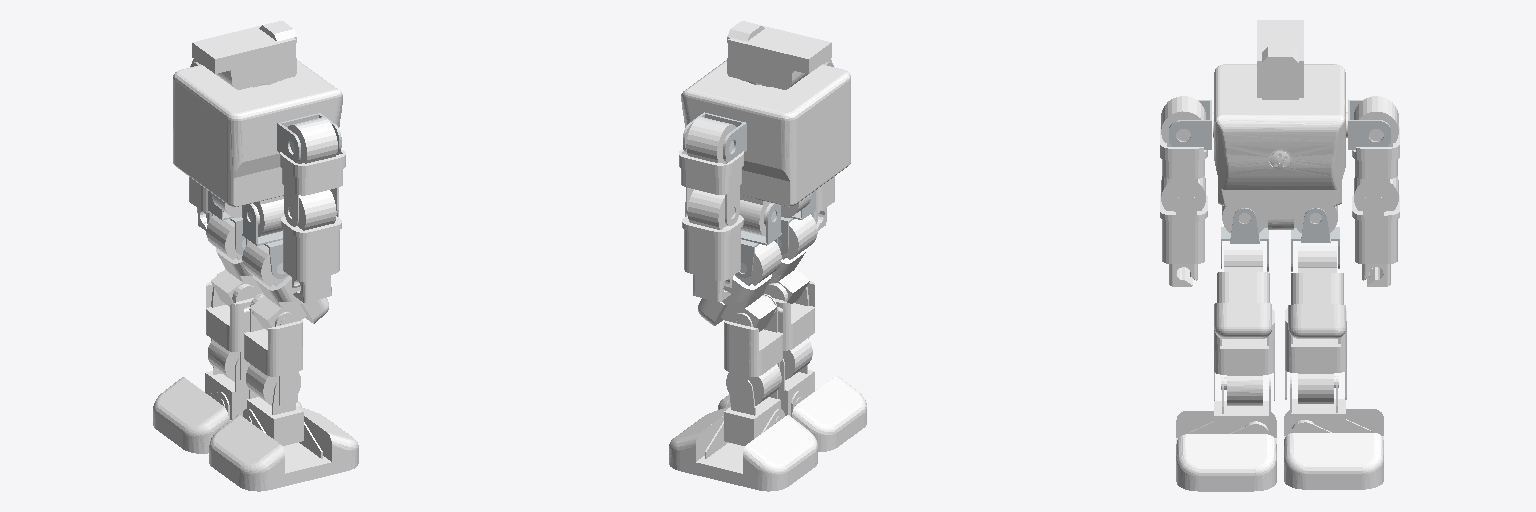
robot.urdf — yanshee:
<?xml version="1.0" ?>
<robot
  name="yanshee">
  <link name="world"/>
  <joint name="world_joint" type="fixed">
  <parent link="world"/>
  <child link="base_link"/>
  <origin rpy="0.0 0.0 0.0" xyz="0.0 0.0 0.28"/>
  </joint>
  <link
    name="base_link">
    <inertial>
      <origin
        xyz="-0.00671487104263047 -0.000225582019654342 -0.0079919194119481"
        rpy="0 0 0" />
      <mass
        value="1.0296612030539" />
      <inertia
        ixx="0.00180022359518362"
        ixy="1.1918387954471E-07"
        ixz="-5.28660375448492E-05"
        iyy="0.00176811056794777"
        iyz="1.82106435044606E-06"
        izz="0.00168298836267856" />
    </inertial>
    <visual>
      <origin
        xyz="0 0 0"
        rpy="0 0 0" />
      <geometry>
        <mesh
          filename="package://yanshee/meshes/base_link.STL" />
      </geometry>
      <material
        name="">
        <color
          rgba="1 1 1 1" />
      </material>
    </visual>
    <collision>
      <origin
        xyz="0 0 0"
        rpy="0 0 0" />
      <geometry>
        <mesh
          filename="package://yanshee/meshes/base_link.STL" />
      </geometry>
    </collision>
  </link>
  <link
    name="head_Link">
    <inertial>
      <origin
        xyz="-0.0107920940962409 7.80887188769389E-05 0.00228460765430599"
        rpy="0 0 0" />
      <mass
        value="0.0931744907520849" />
      <inertia
        ixx="2.05515448473376E-05"
        ixy="2.15071905057931E-08"
        ixz="2.68261333173558E-06"
        iyy="4.973230871684E-05"
        iyz="1.39655887082477E-09"
        izz="5.02600433533246E-05" />
    </inertial>
    <visual>
      <origin
        xyz="0 0 0"
        rpy="0 0 0" />
      <geometry>
        <mesh
          filename="package://yanshee/meshes/head_Link.STL" />
      </geometry>
      <material
        name="">
        <color
          rgba="1 1 1 1" />
      </material>
    </visual>
    <collision>
      <origin
        xyz="0 0 0"
        rpy="0 0 0" />
      <geometry>
        <mesh
          filename="package://yanshee/meshes/head_Link.STL" />
      </geometry>
    </collision>
  </link>
  <joint
    name="head_joint"
    type="revolute">
    <origin
      xyz="0 -0.00014945 0.06"
      rpy="1.1949E-16 -1.7338E-16 0" />
    <parent
      link="base_link" />
    <child
      link="head_Link" />
    <axis
      xyz="-0.00044678 -0.0035302 0.99999" />
    <limit
      lower="-1.58"
      upper="1.58"
      effort="1"
      velocity="10" />
  </joint>
  <link
    name="left_arm1_Link">
    <inertial>
      <origin
        xyz="5.14775840678994E-05 -9.5842284426495E-05 -0.0118303086559914"
        rpy="0 0 0" />
      <mass
        value="0.0136649272424537" />
      <inertia
        ixx="2.3634868988607E-06"
        ixy="-2.43828126653101E-12"
        ixz="2.57000691024144E-10"
        iyy="5.47215996034315E-06"
        iyz="1.05376000100878E-09"
        izz="4.66119879830543E-06" />
    </inertial>
    <visual>
      <origin
        xyz="0 0 0"
        rpy="0 0 0" />
      <geometry>
        <mesh
          filename="package://yanshee/meshes/left_arm1_Link.STL" />
      </geometry>
      <material
        name="">
        <color
          rgba="0.898039215686275 0.917647058823529 0.929411764705882 1" />
      </material>
    </visual>
    <collision>
      <origin
        xyz="0 0 0"
        rpy="0 0 0" />
      <geometry>
        <mesh
          filename="package://yanshee/meshes/left_arm1_Link.STL" />
      </geometry>
    </collision>
  </link>
  <joint
    name="left_arm1_joint"
    type="revolute">
    <origin
      xyz="0.0030003 0.076597 0.013315"
      rpy="-1.5708 0 1.108E-16" />
    <parent
      link="base_link" />
    <child
      link="left_arm1_Link" />
    <axis
      xyz="-5.8802E-05 0 -1" />
    <limit
      lower="-1.58"
      upper="1.58"
      effort="1"
      velocity="10" />
  </joint>
  <link
    name="left_arm2_Link">
    <inertial>
      <origin
        xyz="0.0186297064589019 0.000401816051501303 -0.00042578700677829"
        rpy="0 0 0" />
      <mass
        value="0.0156927248264831" />
      <inertia
        ixx="5.6753981697414E-06"
        ixy="4.73427409516267E-08"
        ixz="-1.27933784616934E-07"
        iyy="1.01425535666065E-05"
        iyz="-5.19641927957789E-09"
        izz="8.82186853628373E-06" />
    </inertial>
    <visual>
      <origin
        xyz="0 0 0"
        rpy="0 0 0" />
      <geometry>
        <mesh
          filename="package://yanshee/meshes/left_arm2_Link.STL" />
      </geometry>
      <material
        name="">
        <color
          rgba="1 1 1 1" />
      </material>
    </visual>
    <collision>
      <origin
        xyz="0 0 0"
        rpy="0 0 0" />
      <geometry>
        <mesh
          filename="package://yanshee/meshes/left_arm2_Link.STL" />
      </geometry>
    </collision>
  </link>
  <joint
    name="left_arm2_joint"
    type="revolute">
    <origin
      xyz="0 0 0"
      rpy="1.5708 0 1.5708" />
    <parent
      link="left_arm1_Link" />
    <child
      link="left_arm2_Link" />
    <axis
      xyz="0 0 1" />
    <limit
      lower="-1.58"
      upper="1.58"
      effort="1"
      velocity="10" />
  </joint>
  <link
    name="left_arm3_Link">
    <inertial>
      <origin
        xyz="0.026570274501621 9.51803753585501E-05 -0.00376690909324129"
        rpy="0 0 0" />
      <mass
        value="0.0983861935013279" />
      <inertia
        ixx="1.95628201387486E-05"
        ixy="-4.69255772866858E-07"
        ixz="4.3937955466687E-07"
        iyy="6.21429342121587E-05"
        iyz="1.77682159194068E-08"
        izz="6.01446819208126E-05" />
    </inertial>
    <visual>
      <origin
        xyz="0 0 0"
        rpy="0 0 0" />
      <geometry>
        <mesh
          filename="package://yanshee/meshes/left_arm3_Link.STL" />
      </geometry>
      <material
        name="">
        <color
          rgba="1 1 1 1" />
      </material>
    </visual>
    <collision>
      <origin
        xyz="0 0 0"
        rpy="0 0 0" />
      <geometry>
        <mesh
          filename="package://yanshee/meshes/left_arm3_Link.STL" />
      </geometry>
    </collision>
  </link>
  <joint
    name="left_arm3_joint"
    type="revolute">
    <origin
      xyz="0.059245 0 0.00152"
      rpy="-1.8995E-11 -0.02618 0" />
    <parent
      link="left_arm2_Link" />
    <child
      link="left_arm3_Link" />
    <axis
      xyz="0.026177 0 0.99966" />
    <limit
      lower="-1.58"
      upper="1.58"
      effort="1"
      velocity="10" />
  </joint>
  <link
    name="right_arm1_Link">
    <inertial>
      <origin
        xyz="-5.1477587142388E-05 -9.58421639294105E-05 -0.0118303086560013"
        rpy="0 0 0" />
      <mass
        value="0.0136649272424444" />
      <inertia
        ixx="2.36348689889869E-06"
        ixy="2.43827204007905E-12"
        ixz="-2.57000159418442E-10"
        iyy="5.4721599603395E-06"
        iyz="1.05373950042753E-09"
        izz="4.66119879834388E-06" />
    </inertial>
    <visual>
      <origin
        xyz="0 0 0"
        rpy="0 0 0" />
      <geometry>
        <mesh
          filename="package://yanshee/meshes/right_arm1_Link.STL" />
      </geometry>
      <material
        name="">
        <color
          rgba="0.898039215686275 0.917647058823529 0.929411764705882 1" />
      </material>
    </visual>
    <collision>
      <origin
        xyz="0 0 0"
        rpy="0 0 0" />
      <geometry>
        <mesh
          filename="package://yanshee/meshes/right_arm1_Link.STL" />
      </geometry>
    </collision>
  </link>
  <joint
    name="right_arm1_joint"
    type="revolute">
    <origin
      xyz="0.0030003 -0.077273 0.013316"
      rpy="1.5708 0 -3.9868E-19" />
    <parent
      link="base_link" />
    <child
      link="right_arm1_Link" />
    <axis
      xyz="-5.9268E-05 0 1" />
    <limit
      lower="-1.58"
      upper="1.58"
      effort="1"
      velocity="10" />
  </joint>
  <link
    name="right_arm2_Link">
    <inertial>
      <origin
        xyz="0.0186297095059434 0.000401688645375403 0.000425917718280107"
        rpy="0 0 0" />
      <mass
        value="0.0156926956999585" />
      <inertia
        ixx="5.67540894238038E-06"
        ixy="4.73622619858288E-08"
        ixz="1.27913953578669E-07"
        iyy="1.01425587967183E-05"
        iyz="5.14556186469705E-09"
        izz="8.82187996580289E-06" />
    </inertial>
    <visual>
      <origin
        xyz="0 0 0"
        rpy="0 0 0" />
      <geometry>
        <mesh
          filename="package://yanshee/meshes/right_arm2_Link.STL" />
      </geometry>
      <material
        name="">
        <color
          rgba="1 1 1 1" />
      </material>
    </visual>
    <collision>
      <origin
        xyz="0 0 0"
        rpy="0 0 0" />
      <geometry>
        <mesh
          filename="package://yanshee/meshes/right_arm2_Link.STL" />
      </geometry>
    </collision>
  </link>
  <joint
    name="right_arm2_joint"
    type="revolute">
    <origin
      xyz="-9.961E-05 0 0"
      rpy="1.5708 0 -1.5708" />
    <parent
      link="right_arm1_Link" />
    <child
      link="right_arm2_Link" />
    <axis
      xyz="0 0 1" />
    <limit
      lower="-1.58"
      upper="1.58"
      effort="1"
      velocity="10" />
  </joint>
  <link
    name="right_arm3_Link">
    <inertial>
      <origin
        xyz="0.026659702183302 9.51783873687356E-05 0.00307009292755899"
        rpy="0 0 0" />
      <mass
        value="0.0983852869739852" />
      <inertia
        ixx="1.95671253596984E-05"
        ixy="-4.69557130988975E-07"
        ixz="6.23165184228249E-07"
        iyy="6.2142544545993E-05"
        iyz="-5.47676812377141E-09"
        izz="6.01395038406066E-05" />
    </inertial>
    <visual>
      <origin
        xyz="0 0 0"
        rpy="0 0 0" />
      <geometry>
        <mesh
          filename="package://yanshee/meshes/right_arm3_Link.STL" />
      </geometry>
      <material
        name="">
        <color
          rgba="1 1 1 1" />
      </material>
    </visual>
    <collision>
      <origin
        xyz="0 0 0"
        rpy="0 0 0" />
      <geometry>
        <mesh
          filename="package://yanshee/meshes/right_arm3_Link.STL" />
      </geometry>
    </collision>
  </link>
  <joint
    name="right_arm3_joint"
    type="revolute">
    <origin
      xyz="0.059245 0 -0.00152"
      rpy="1.9539E-11 4.4108E-12 0" />
    <parent
      link="right_arm2_Link" />
    <child
      link="right_arm3_Link" />
    <axis
      xyz="0 0 -1" />
    <limit
      lower="-1.58"
      upper="1.58"
      effort="1"
      velocity="10" />
  </joint>
  <link
    name="left_leg1_Link">
    <inertial>
      <origin
        xyz="0.0218793806245584 0.000461528315038338 0.000437328945235152"
        rpy="0 0 0" />
      <mass
        value="0.0156559636608665" />
      <inertia
        ixx="4.47155922341706E-06"
        ixy="-1.77585864343584E-07"
        ixz="1.75175041214978E-07"
        iyy="4.61839887541924E-06"
        iyz="3.15996181844891E-09"
        izz="4.6159043452499E-06" />
    </inertial>
    <visual>
      <origin
        xyz="0 0 0"
        rpy="0 0 0" />
      <geometry>
        <mesh
          filename="package://yanshee/meshes/left_leg1_Link.STL" />
      </geometry>
      <material
        name="">
        <color
          rgba="0.898039215686275 0.917647058823529 0.929411764705882 1" />
      </material>
    </visual>
    <collision>
      <origin
        xyz="0 0 0"
        rpy="0 0 0" />
      <geometry>
        <mesh
          filename="package://yanshee/meshes/left_leg1_Link.STL" />
      </geometry>
    </collision>
  </link>
  <joint
    name="left_leg1_joint"
    type="fixed">
    <origin
      xyz="-0.0091403 0.02816 -0.065928"
      rpy="-1.5708 1.5708 1.5708" />
    <parent
      link="base_link" />
    <child
      link="left_leg1_Link" />
    <axis
      xyz="0 0 -1" />
    <limit
      lower="-1.58"
      upper="1.58"
      effort="0"
      velocity="0" />
  </joint>
  <link
    name="left_leg2_Link">
    <inertial>
      <origin
        xyz="0.0255864571187106 -0.0108509305854525 0.00101864247275891"
        rpy="0 0 0" />
      <mass
        value="0.107715150230029" />
      <inertia
        ixx="3.38164419926127E-05"
        ixy="1.23153518587689E-05"
        ixz="4.6194211271192E-07"
        iyy="5.78640129364067E-05"
        iyz="2.74795544044712E-07"
        izz="6.64839927510415E-05" />
    </inertial>
    <visual>
      <origin
        xyz="0 0 0"
        rpy="0 0 0" />
      <geometry>
        <mesh
          filename="package://yanshee/meshes/left_leg2_Link.STL" />
      </geometry>
      <material
        name="">
        <color
          rgba="1 1 1 1" />
      </material>
    </visual>
    <collision>
      <origin
        xyz="0 0 0"
        rpy="0 0 0" />
      <geometry>
        <mesh
          filename="package://yanshee/meshes/left_leg2_Link.STL" />
      </geometry>
    </collision>
  </link>
  <joint
    name="left_leg2_joint"
    type="fixed">
    <origin
      xyz="0.0438 0 0"
      rpy="1.5708 0 -6.8049E-07" />
    <parent
      link="left_leg1_Link" />
    <child
      link="left_leg2_Link" />
    <axis
      xyz="0 0 -1" />
    <limit
      lower="-1.58"
      upper="1.58"
      effort="0"
      velocity="0" />
  </joint>
  <link
    name="left_leg3_Link">
    <inertial>
      <origin
        xyz="0.0407946525783551 2.00999895415663E-05 0.000215900493275946"
        rpy="0 0 0" />
      <mass
        value="0.0769705912620037" />
      <inertia
        ixx="2.01778905647826E-05"
        ixy="3.24770412009536E-09"
        ixz="-5.11455121015069E-08"
        iyy="3.91841731233319E-05"
        iyz="1.50114743011987E-09"
        izz="3.21700138167598E-05" />
    </inertial>
    <visual>
      <origin
        xyz="0 0 0"
        rpy="0 0 0" />
      <geometry>
        <mesh
          filename="package://yanshee/meshes/left_leg3_Link.STL" />
      </geometry>
      <material
        name="">
        <color
          rgba="1 1 1 1" />
      </material>
    </visual>
    <collision>
      <origin
        xyz="0 0 0"
        rpy="0 0 0" />
      <geometry>
        <mesh
          filename="package://yanshee/meshes/left_leg3_Link.STL" />
      </geometry>
    </collision>
  </link>
  <joint
    name="left_leg3_joint"
    type="fixed">
    <origin
      xyz="0.049876 0 1.4223E-05"
      rpy="-1.6653E-16 -1.0793E-06 0" />
    <parent
      link="left_leg2_Link" />
    <child
      link="left_leg3_Link" />
    <axis
      xyz="0.13975 -0.99019 0" />
    <limit
      lower="-1.58"
      upper="1.58"
      effort="0"
      velocity="0" />
  </joint>
  <link
    name="left_leg4_Link">
    <inertial>
      <origin
        xyz="0.0339764234951882 0.00157592235510815 0.000681683144300838"
        rpy="0 0 0" />
      <mass
        value="0.0377470338040459" />
      <inertia
        ixx="9.3959305666122E-06"
        ixy="-1.9874023770476E-07"
        ixz="-6.9333960599869E-08"
        iyy="6.29756290524162E-06"
        iyz="2.15786874188445E-07"
        izz="9.74973254351289E-06" />
    </inertial>
    <visual>
      <origin
        xyz="0 0 0"
        rpy="0 0 0" />
      <geometry>
        <mesh
          filename="package://yanshee/meshes/left_leg4_Link.STL" />
      </geometry>
      <material
        name="">
        <color
          rgba="1 1 1 1" />
      </material>
    </visual>
    <collision>
      <origin
        xyz="0 0 0"
        rpy="0 0 0" />
      <geometry>
        <mesh
          filename="package://yanshee/meshes/left_leg4_Link.STL" />
      </geometry>
    </collision>
  </link>
  <joint
    name="left_leg4_joint"
    type="fixed">
    <origin
      xyz="0.059245 1.5251E-05 0"
      rpy="1.5714 -0.00046343 0" />
    <parent
      link="left_leg3_Link" />
    <child
      link="left_leg4_Link" />
    <axis
      xyz="0 -1 0" />
    <limit
      lower="-1.58"
      upper="1.58"
      effort="0"
      velocity="0" />
  </joint>
  <link
    name="left_leg5_Link">
    <inertial>
      <origin
        xyz="0.0196730138540844 -0.0233092637107096 -0.00142039915584111"
        rpy="0 0 0" />
      <mass
        value="0.180693448780151" />
      <inertia
        ixx="0.000286904706763416"
        ixy="4.85308988509185E-07"
        ixz="3.08612201699753E-08"
        iyy="0.000209961688550046"
        iyz="2.86937724081844E-10"
        izz="0.000102539066831567" />
    </inertial>
    <visual>
      <origin
        xyz="0 0 0"
        rpy="0 0 0" />
      <geometry>
        <mesh
          filename="package://yanshee/meshes/left_leg5_Link.STL" />
      </geometry>
      <material
        name="">
        <color
          rgba="1 1 1 1" />
      </material>
    </visual>
    <collision>
      <origin
        xyz="0 0 0"
        rpy="0 0 0" />
      <geometry>
        <mesh
          filename="package://yanshee/meshes/left_leg5_Link.STL" />
      </geometry>
    </collision>
  </link>
  <joint
    name="left_leg5_joint"
    type="fixed">
    <origin
      xyz="0.03699 -0.0088627 0"
      rpy="3.1416 -9.9825E-06 0" />
    <parent
      link="left_leg4_Link" />
    <child
      link="left_leg5_Link" />
    <axis
      xyz="0 0 -1" />
    <limit
      lower="-1.58"
      upper="1.58"
      effort="0"
      velocity="0" />
  </joint>
  <link
    name="right_leg1_Link">
    <inertial>
      <origin
        xyz="0.0218793806256354 0.000461528344157129 -0.00043732892343204"
        rpy="0 0 0" />
      <mass
        value="0.0156559636636307" />
      <inertia
        ixx="4.47155922610687E-06"
        ixy="-1.77585863984461E-07"
        ixz="-1.75175041026435E-07"
        iyy="4.61839888466442E-06"
        iyz="-3.15996305903733E-09"
        izz="4.61590434363492E-06" />
    </inertial>
    <visual>
      <origin
        xyz="0 0 0"
        rpy="0 0 0" />
      <geometry>
        <mesh
          filename="package://yanshee/meshes/right_leg1_Link.STL" />
      </geometry>
      <material
        name="">
        <color
          rgba="0.898039215686275 0.917647058823529 0.929411764705882 1" />
      </material>
    </visual>
    <collision>
      <origin
        xyz="0 0 0"
        rpy="0 0 0" />
      <geometry>
        <mesh
          filename="package://yanshee/meshes/right_leg1_Link.STL" />
      </geometry>
    </collision>
  </link>
  <joint
    name="right_leg1_joint"
    type="fixed">
    <origin
      xyz="-0.0091403 -0.028469 -0.066034"
      rpy="-1.5708 1.5708 -1.5708" />
    <parent
      link="base_link" />
    <child
      link="right_leg1_Link" />
    <axis
      xyz="0 0 1" />
    <limit
      lower="-1.58"
      upper="1.58"
      effort="0"
      velocity="0" />
  </joint>
  <link
    name="right_leg2_Link">
    <inertial>
      <origin
        xyz="0.0248207221657579 0.0125036435026244 0.00101864810052388"
        rpy="0 0 0" />
      <mass
        value="0.107715237159741" />
      <inertia
        ixx="3.55296285133566E-05"
        ixy="-1.37815242878706E-05"
        ixz="4.78946454291171E-07"
        iyy="5.61509322467855E-05"
        iyz="-2.43945783167363E-07"
        izz="6.64840036459698E-05" />
    </inertial>
    <visual>
      <origin
        xyz="0 0 0"
        rpy="0 0 0" />
      <geometry>
        <mesh
          filename="package://yanshee/meshes/right_leg2_Link.STL" />
      </geometry>
      <material
        name="">
        <color
          rgba="1 1 1 1" />
      </material>
    </visual>
    <collision>
      <origin
        xyz="0 0 0"
        rpy="0 0 0" />
      <geometry>
        <mesh
          filename="package://yanshee/meshes/right_leg2_Link.STL" />
      </geometry>
    </collision>
  </link>
  <joint
    name="right_leg2_joint"
    type="fixed">
    <origin
      xyz="0.0438 0 0"
      rpy="1.5708 0 -6.8037E-07" />
    <parent
      link="right_leg1_Link" />
    <child
      link="right_leg2_Link" />
    <axis
      xyz="0 0 -1" />
    <limit
      lower="-1.58"
      upper="1.58"
      effort="0"
      velocity="0" />
  </joint>
  <link
    name="right_leg3_Link">
    <inertial>
      <origin
        xyz="0.0407948464152487 -2.01710272295947E-05 0.000215807538541168"
        rpy="0 0 0" />
      <mass
        value="0.0769703186436065" />
      <inertia
        ixx="2.01778686734398E-05"
        ixy="-3.2266132479563E-09"
        ixz="-5.14487015473355E-08"
        iyy="3.91833919170359E-05"
        iyz="3.83742815950406E-09"
        izz="3.21693080984243E-05" />
    </inertial>
    <visual>
      <origin
        xyz="0 0 0"
        rpy="0 0 0" />
      <geometry>
        <mesh
          filename="package://yanshee/meshes/right_leg3_Link.STL" />
      </geometry>
      <material
        name="">
        <color
          rgba="1 1 1 1" />
      </material>
    </visual>
    <collision>
      <origin
        xyz="0 0 0"
        rpy="0 0 0" />
      <geometry>
        <mesh
          filename="package://yanshee/meshes/right_leg3_Link.STL" />
      </geometry>
    </collision>
  </link>
  <joint
    name="right_leg3_joint"
    type="fixed">
    <origin
      xyz="0.049769 0.0032671 1.4223E-05"
      rpy="-0.00076321 -1.0794E-06 0" />
    <parent
      link="right_leg2_Link" />
    <child
      link="right_leg3_Link" />
    <axis
      xyz="0 0.0007632 -1" />
    <limit
      lower="-1.58"
      upper="1.58"
      effort="0"
      velocity="0" />
  </joint>
  <link
    name="right_leg4_Link">
    <inertial>
      <origin
        xyz="0.0339764646323713 0.000681371450579888 0.00157592285558581"
        rpy="0 0 0" />
      <mass
        value="0.0377471105564984" />
      <inertia
        ixx="9.39595739028984E-06"
        ixy="-6.93417906435305E-08"
        ixz="-1.98734856222991E-07"
        iyy="9.74975907787965E-06"
        iyz="2.15816104840149E-07"
        izz="6.29758000243913E-06" />
    </inertial>
    <visual>
      <origin
        xyz="0 0 0"
        rpy="0 0 0" />
      <geometry>
        <mesh
          filename="package://yanshee/meshes/right_leg4_Link.STL" />
      </geometry>
      <material
        name="">
        <color
          rgba="1 1 1 1" />
      </material>
    </visual>
    <collision>
      <origin
        xyz="0 0 0"
        rpy="0 0 0" />
      <geometry>
        <mesh
          filename="package://yanshee/meshes/right_leg4_Link.STL" />
      </geometry>
    </collision>
  </link>
  <joint
    name="right_leg4_joint"
    type="fixed">
    <origin
      xyz="0.059245 -1.5243E-05 -1.0003E-05"
      rpy="2.181E-09 1.1024E-06 0" />
    <parent
      link="right_leg3_Link" />
    <child
      link="right_leg4_Link" />
    <axis
      xyz="0 0 -1" />
    <limit
      lower="-1.58"
      upper="1.58"
      effort="0"
      velocity="0" />
  </joint>
  <link
    name="right_leg5_Link">
    <inertial>
      <origin
        xyz="0.0196728894917525 -0.0233093361989681 0.00142044913562242"
        rpy="0 0 0" />
      <mass
        value="0.180690409171148" />
      <inertia
        ixx="0.000286894196605779"
        ixy="4.85195544577275E-07"
        ixz="-3.07943743530547E-08"
        iyy="0.000209955979974034"
        iyz="-1.37393316499492E-09"
        izz="0.000102534173179187" />
    </inertial>
    <visual>
      <origin
        xyz="0 0 0"
        rpy="0 0 0" />
      <geometry>
        <mesh
          filename="package://yanshee/meshes/right_leg5_Link.STL" />
      </geometry>
      <material
        name="">
        <color
          rgba="1 1 1 1" />
      </material>
    </visual>
    <collision>
      <origin
        xyz="0 0 0"
        rpy="0 0 0" />
      <geometry>
        <mesh
          filename="package://yanshee/meshes/right_leg5_Link.STL" />
      </geometry>
    </collision>
  </link>
  <joint
    name="right_leg5_joint"
    type="fixed">
    <origin
      xyz="0.03699 0 -0.0088627"
      rpy="-1.5708 0 1.8708E-08" />
    <parent
      link="right_leg4_Link" />
    <child
      link="right_leg5_Link" />
    <axis
      xyz="0 0 1" />
    <limit
      lower="-1.58"
      upper="1.58"
      effort="1"
      velocity="10" />
  </joint>
</robot>

--- Facts derived from the render (not from the file) ---
The picture shows the robot from 3 angles, left to right: view 1: azimuth 30°, elevation 25°; view 2: azimuth 150°, elevation 25°; view 3: azimuth 270°, elevation 25°; orthographic projection.
Model yanshee with 19 links and 18 joints (7 revolute, 11 fixed), rooted at world, posed all joints at 0.
Visible links, largest first — view 1: base_link, right_leg5_Link, head_Link, right_arm3_Link, right_leg3_Link, right_arm2_Link, left_leg5_Link, right_leg2_Link, left_leg3_Link, left_leg2_Link, right_leg4_Link, left_leg4_Link (+4 smaller); view 2: base_link, left_leg5_Link, head_Link, left_arm3_Link, left_leg3_Link, left_arm2_Link, right_leg5_Link, left_leg2_Link, right_leg3_Link, right_leg2_Link, left_leg4_Link, left_leg1_Link (+4 smaller); view 3: base_link, right_leg5_Link, left_leg5_Link, left_leg2_Link, right_leg2_Link, right_arm3_Link, left_arm3_Link, head_Link, right_leg3_Link, left_leg3_Link, left_arm2_Link, right_arm2_Link (+6 smaller).
Boxes of the visible links, x1,y1,x2,y2 form: base_link: (173, 60, 342, 236); right_leg5_Link: (209, 406, 358, 491); head_Link: (192, 21, 296, 89); right_arm3_Link: (281, 190, 341, 302); right_leg3_Link: (244, 293, 302, 406); right_arm2_Link: (280, 117, 345, 226); left_leg5_Link: (153, 377, 301, 453); right_leg2_Link: (242, 241, 328, 330); left_leg3_Link: (206, 271, 258, 381); left_leg2_Link: (206, 214, 262, 306); right_leg4_Link: (245, 381, 303, 445); left_leg4_Link: (205, 357, 248, 419); base_link: (681, 60, 850, 236); left_leg5_Link: (669, 406, 817, 491); head_Link: (727, 21, 831, 89); left_arm3_Link: (682, 189, 743, 301); left_leg3_Link: (724, 294, 782, 406); left_arm2_Link: (679, 117, 743, 225); right_leg5_Link: (718, 376, 866, 451); left_leg2_Link: (698, 241, 781, 331); right_leg3_Link: (763, 270, 814, 379); right_leg2_Link: (768, 214, 817, 303); left_leg4_Link: (724, 380, 781, 445); left_leg1_Link: (736, 203, 781, 278); base_link: (1213, 64, 1347, 233); right_leg5_Link: (1176, 411, 1276, 491); left_leg5_Link: (1284, 409, 1383, 489); left_leg2_Link: (1288, 241, 1345, 338); right_leg2_Link: (1214, 241, 1271, 338); right_arm3_Link: (1160, 176, 1207, 286); left_arm3_Link: (1352, 176, 1399, 286); head_Link: (1257, 20, 1303, 99); right_leg3_Link: (1214, 309, 1274, 405); left_leg3_Link: (1285, 308, 1346, 403); left_arm2_Link: (1352, 96, 1399, 211); right_arm2_Link: (1160, 96, 1207, 211).
Bounding box of the posed robot: 0.1143 × 0.1924 × 0.3707 m (x, y, z).
18 mesh visuals loaded from 18 distinct referenced files (18 binary STL).